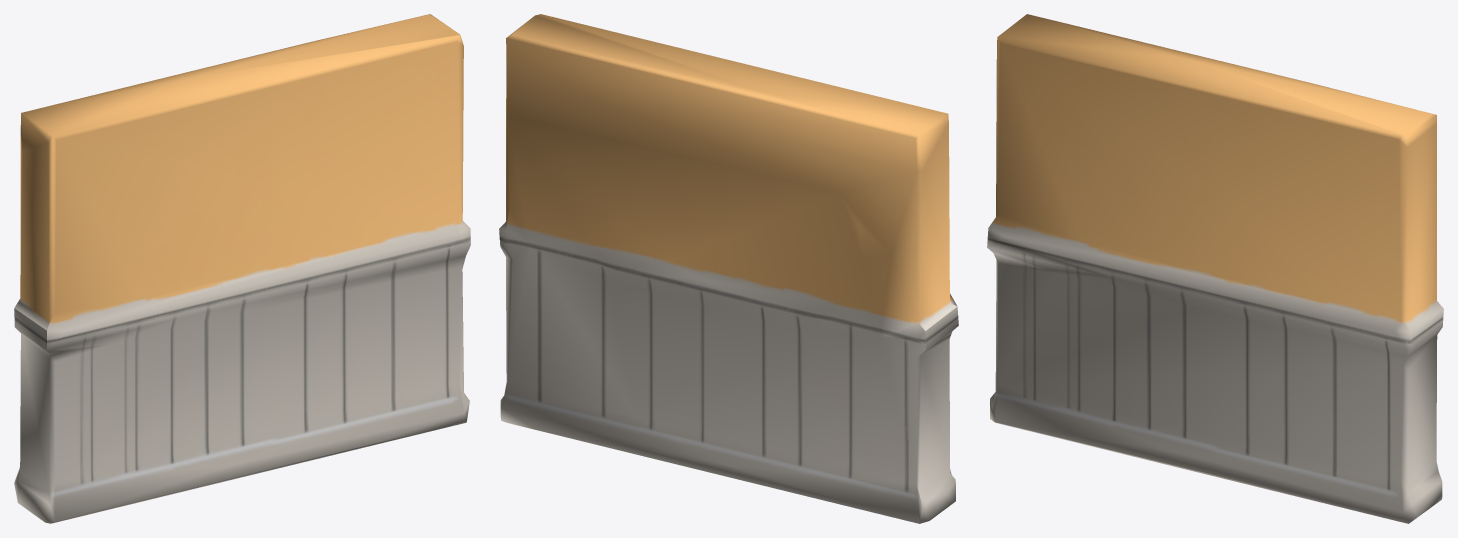
The model's file is beadboard-wainscot-wall.glb.
The picture shows the model from 3 angles, left to right: view 1: azimuth 30°, elevation 25°; view 2: azimuth 150°, elevation 25°; view 3: azimuth 330°, elevation 25°; orthographic projection.
Visible parts, largest first — view 1: geometry_0.001; view 2: geometry_0.001; view 3: geometry_0.001.
Boxes of the visible parts, <box> form: geometry_0.001: <box>14,14,470,523</box>; geometry_0.001: <box>499,14,958,523</box>; geometry_0.001: <box>987,14,1443,523</box>.
Bounding box in the file's own units: 0.9997 × 0.8716 × 0.1478.
1 material, 1 textured.
